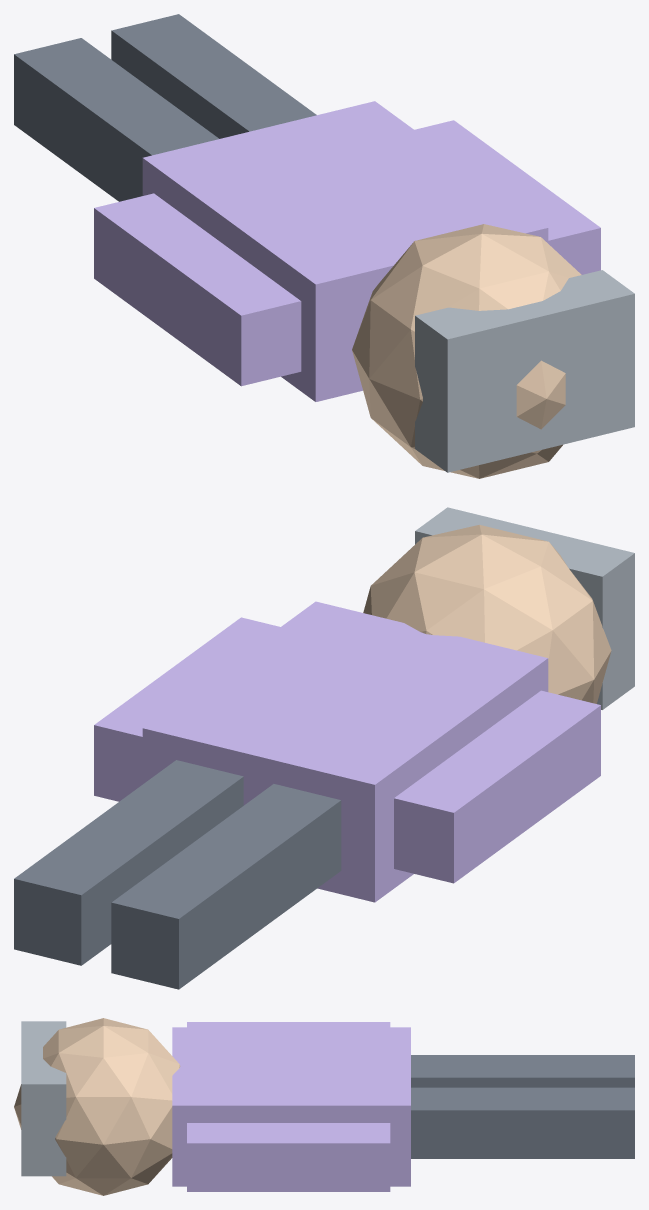
The model's file is manager_variant_5.glb.
3 views of the same model, one above another, from view 1: azimuth 30°, elevation 25°; view 2: azimuth 150°, elevation 25°; view 3: azimuth 270°, elevation 25° (orthographic). The views are drawn at different scales.
Visible parts, largest first — view 1: torso_2, hair_6, head_5, arm_l_3, leg_l_0, leg_r_1, arm_r_4; view 2: torso_2, leg_l_0, head_5, arm_l_3, leg_r_1, arm_r_4, hair_6; view 3: torso_2, head_5, leg_r_1, arm_r_4, leg_l_0, hair_6, arm_l_3.
Part boxes in pixels (<box>): torso_2: <box>142,101,548,401</box>; hair_6: <box>415,270,634,472</box>; head_5: <box>352,224,581,478</box>; arm_l_3: <box>94,193,301,386</box>; leg_l_0: <box>14,38,218,201</box>; leg_r_1: <box>111,14,316,138</box>; arm_r_4: <box>414,120,600,274</box>; torso_2: <box>142,601,548,902</box>; leg_l_0: <box>111,784,341,989</box>; head_5: <box>363,524,611,703</box>; arm_l_3: <box>394,690,600,883</box>; leg_r_1: <box>14,760,243,965</box>; arm_r_4: <box>94,617,280,801</box>; hair_6: <box>415,507,634,709</box>; torso_2: <box>172,1027,410,1186</box>; head_5: <box>14,1018,180,1195</box>; leg_r_1: <box>411,1087,634,1158</box>; arm_r_4: <box>187,1123,390,1191</box>; leg_l_0: <box>411,1055,634,1087</box>; hair_6: <box>21,1021,66,1176</box>; arm_l_3: <box>187,1022,390,1027</box>.
Size of the model in its own units: 0.96 by 0.6 by 2.08.
